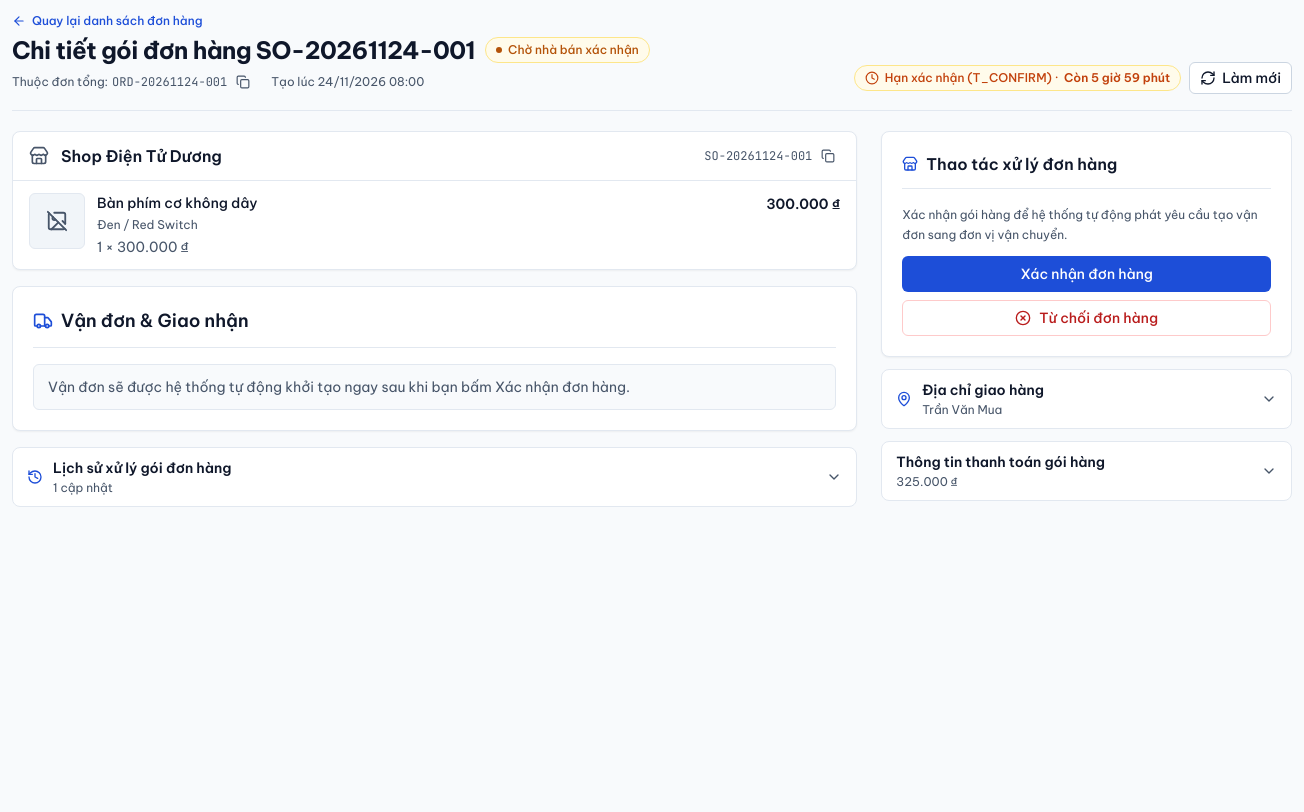
it: T4-08: Seller Order Detail (/seller/orders/:id) › confirms order and transitions to CONFIRMED with shipment lookup
Click the button "Xác nhận đơn hàng" at (1087, 274), box x1=902 y1=256 x2=1271 y2=292
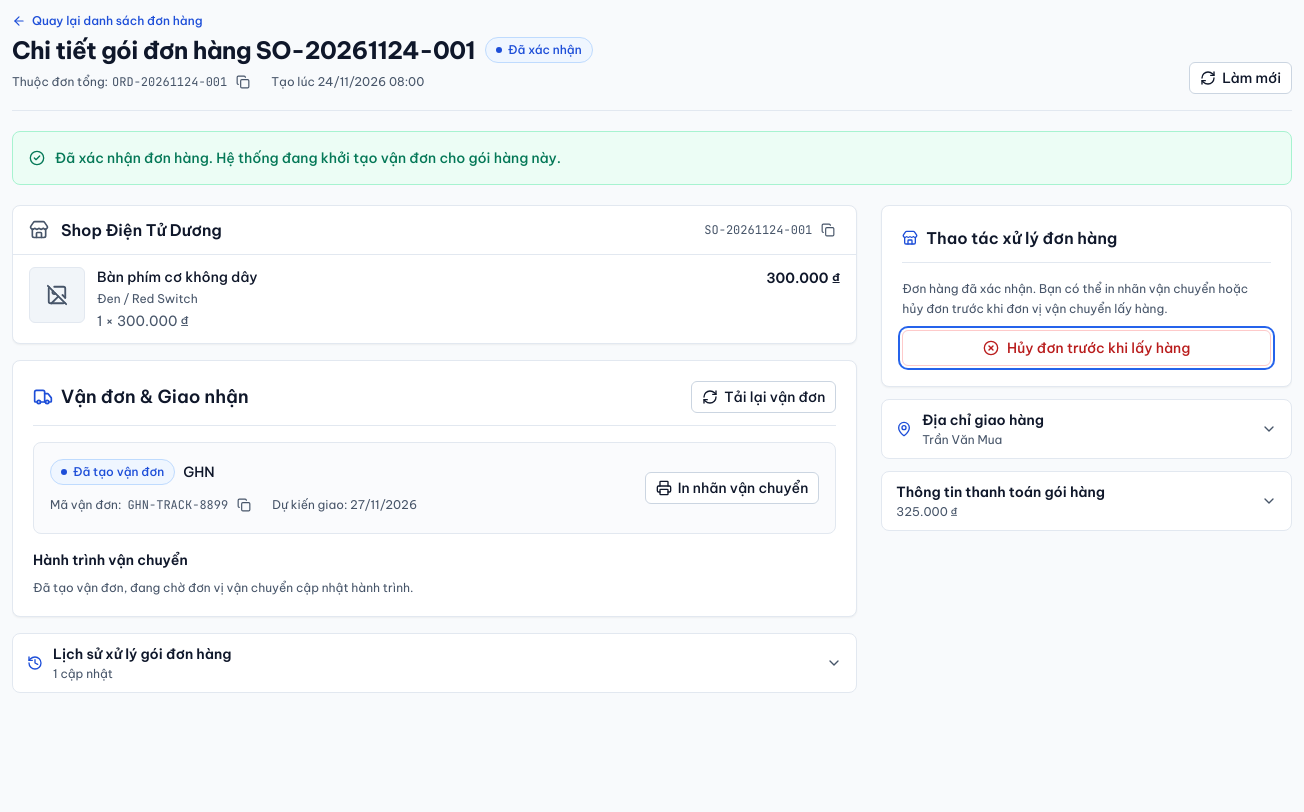
Expected: the text "Đã xác nhận đơn hàng" is shown, x1=55 y1=149 x2=561 y2=167
Expected: the text "GHN-TRACK-8899" is shown, x1=127 y1=497 x2=228 y2=513
